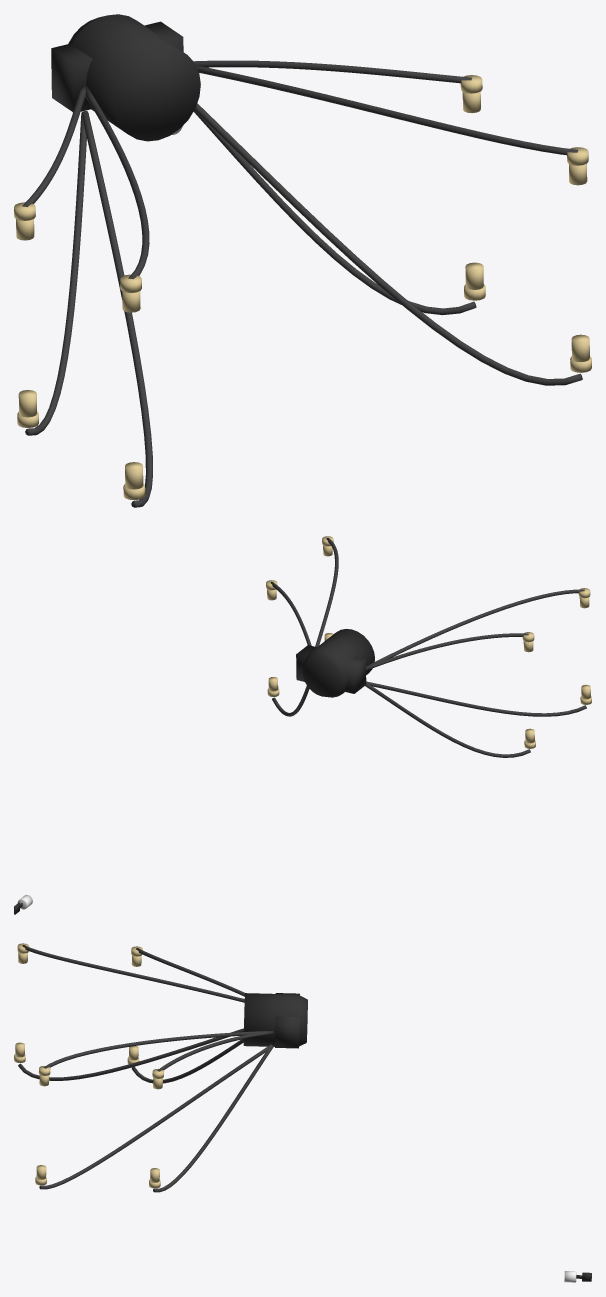
Rendered from IGNITION.glb.
The picture shows the model from 3 angles, top to bottom: view 1: azimuth 30°, elevation 25°; view 2: azimuth 150°, elevation 25°; view 3: azimuth 270°, elevation 25°; orthographic projection. The views are drawn at different scales.
Parts seen in each view (by area): view 1: IGNITION.dual_magneto, ENGINE.plug_lead_bottom_2, ENGINE.plug_lead_bottom_1, ENGINE.plug_lead_top_2, ENGINE.plug_lead_bottom_3, ENGINE.plug_lead_bottom_4, ENGINE.plug_lead_top_4, ENGINE.plug_lead_top_1, ENGINE.plug_lead_top_3, ENGINE.plug_bottom_4, ENGINE.plug_bottom_1, ENGINE.plug_bottom_2 (+5 smaller); view 2: IGNITION.dual_magneto, ENGINE.plug_lead_top_1, ENGINE.plug_lead_bottom_1, ENGINE.plug_lead_bottom_3, ENGINE.plug_lead_top_3; view 3: IGNITION.dual_magneto, ENGINE.plug_lead_bottom_2, ENGINE.plug_lead_top_1, ENGINE.plug_lead_bottom_1, ENGINE.plug_lead_top_2, ENGINE.plug_lead_bottom_4, ENGINE.plug_lead_top_4, ENGINE.plug_lead_bottom_3, ENGINE.plug_lead_top_3.
Boxes of the visible parts, x1=… form: IGNITION.dual_magneto: x1=51, y1=14, x2=200, y2=141; ENGINE.plug_lead_bottom_2: x1=194, y1=103, x2=582, y2=385; ENGINE.plug_lead_bottom_1: x1=82, y1=111, x2=152, y2=507; ENGINE.plug_lead_top_2: x1=196, y1=65, x2=578, y2=155; ENGINE.plug_lead_bottom_3: x1=25, y1=112, x2=86, y2=435; ENGINE.plug_lead_bottom_4: x1=193, y1=110, x2=476, y2=315; ENGINE.plug_lead_top_4: x1=194, y1=60, x2=471, y2=83; ENGINE.plug_lead_top_1: x1=84, y1=85, x2=149, y2=279; ENGINE.plug_lead_top_3: x1=22, y1=85, x2=85, y2=206; ENGINE.plug_bottom_4: x1=464, y1=262, x2=485, y2=300; ENGINE.plug_bottom_1: x1=123, y1=462, x2=145, y2=500; ENGINE.plug_bottom_2: x1=570, y1=334, x2=591, y2=372; IGNITION.dual_magneto: x1=296, y1=629, x2=374, y2=697; ENGINE.plug_lead_top_1: x1=366, y1=589, x2=584, y2=666; ENGINE.plug_lead_bottom_1: x1=366, y1=681, x2=586, y2=716; ENGINE.plug_lead_bottom_3: x1=365, y1=683, x2=530, y2=757; ENGINE.plug_lead_top_3: x1=366, y1=633, x2=528, y2=670; IGNITION.dual_magneto: x1=243, y1=993, x2=307, y2=1048; ENGINE.plug_lead_bottom_2: x1=39, y1=1044, x2=272, y2=1189; ENGINE.plug_lead_top_1: x1=22, y1=945, x2=244, y2=1002; ENGINE.plug_lead_bottom_1: x1=18, y1=1028, x2=243, y2=1080; ENGINE.plug_lead_top_2: x1=43, y1=1030, x2=272, y2=1068; ENGINE.plug_lead_bottom_4: x1=153, y1=1046, x2=273, y2=1192; ENGINE.plug_lead_top_4: x1=157, y1=1031, x2=273, y2=1071; ENGINE.plug_lead_bottom_3: x1=131, y1=1039, x2=243, y2=1083; ENGINE.plug_lead_top_3: x1=136, y1=948, x2=244, y2=996.
Size of the model in its own units: 0.7248 by 0.4657 by 1.19.
